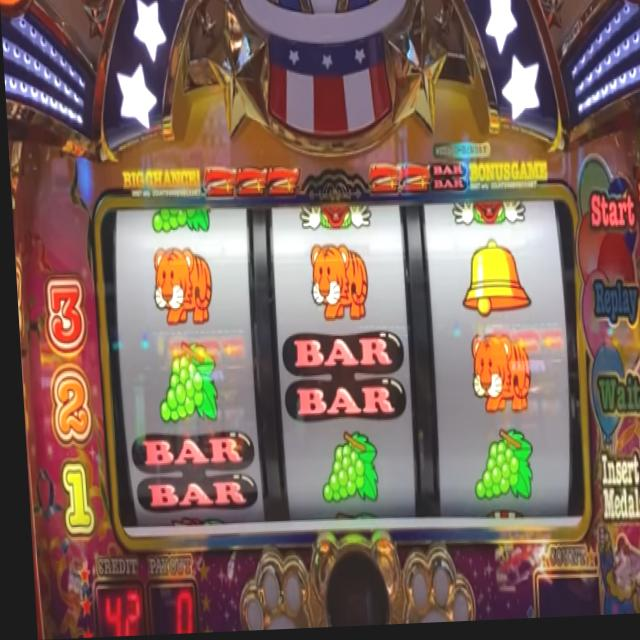bar: (277, 329, 402, 425), (124, 432, 252, 516), (428, 166, 464, 195)
bell: (457, 238, 529, 328)
clown: (447, 202, 523, 235), (296, 208, 369, 236)
display: (96, 189, 583, 547)
grape: (151, 342, 216, 427), (465, 429, 530, 509), (313, 432, 374, 509), (147, 203, 210, 235)
tiger: (147, 247, 211, 329), (465, 335, 529, 417), (305, 241, 368, 324)
z: (200, 166, 234, 202), (233, 165, 265, 201), (266, 168, 299, 200), (365, 163, 398, 195), (396, 163, 429, 195)
